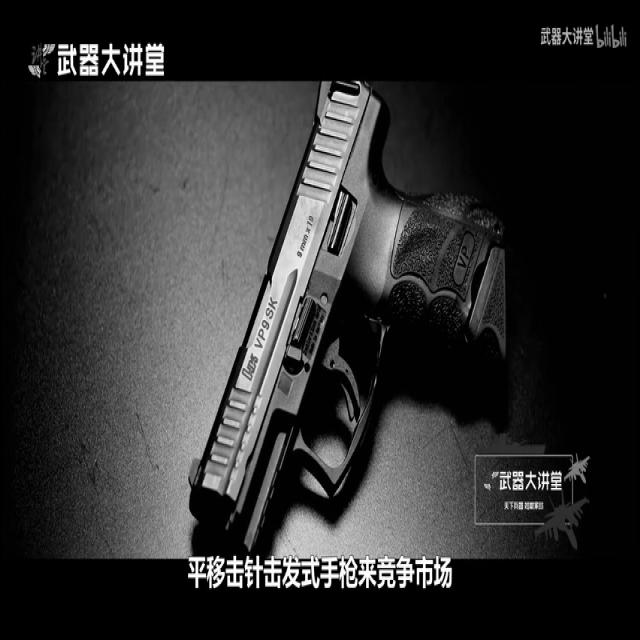Hand-Gun: (190, 68, 508, 538)
